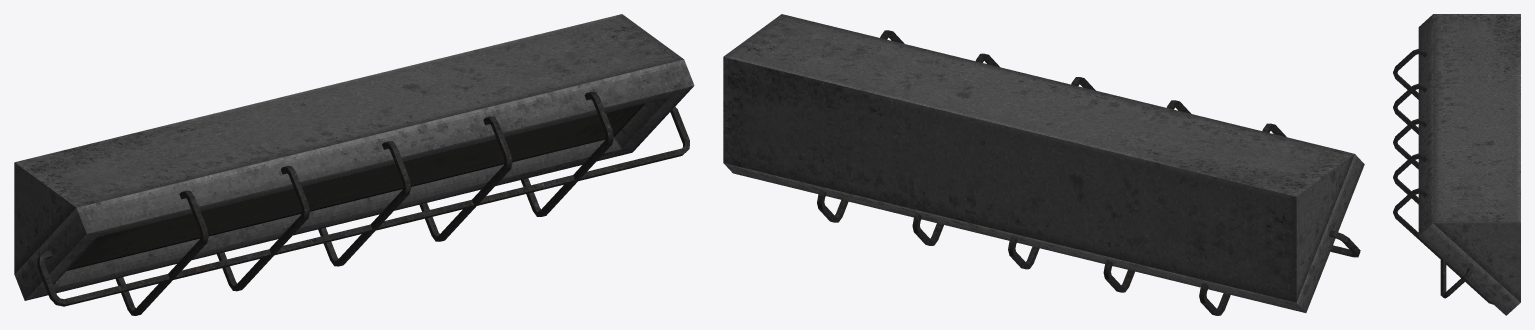
The model's file is lamp_3_1_off.glb.
3 views of the same model, side by side, from view 1: azimuth 30°, elevation 25°; view 2: azimuth 150°, elevation 25°; view 3: azimuth 270°, elevation 25° (orthographic). The views are drawn at different scales.
Visible parts, largest first — view 1: lamp_3_1_off, lamp_3_1_off_protector; view 2: lamp_3_1_off, lamp_3_1_off_protector; view 3: lamp_3_1_off, lamp_3_1_off_protector.
Boxes of the visible parts, left/top/right/bottom form: lamp_3_1_off: left=14, top=14, right=694, bottom=300; lamp_3_1_off_protector: left=37, top=92, right=689, bottom=315; lamp_3_1_off: left=723, top=14, right=1364, bottom=312; lamp_3_1_off_protector: left=817, top=30, right=1360, bottom=315; lamp_3_1_off: left=1418, top=14, right=1520, bottom=315; lamp_3_1_off_protector: left=1393, top=48, right=1493, bottom=304.
Size of the model in its own units: 1.26 by 0.3092 by 0.3092.
Materials: 2 (2 with a texture image).
